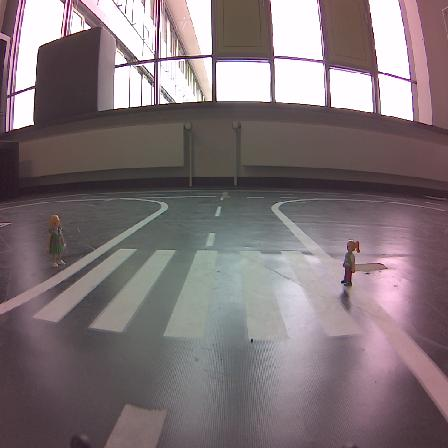CHILD: (341, 240, 359, 285)
PERSON: (47, 215, 65, 267)
